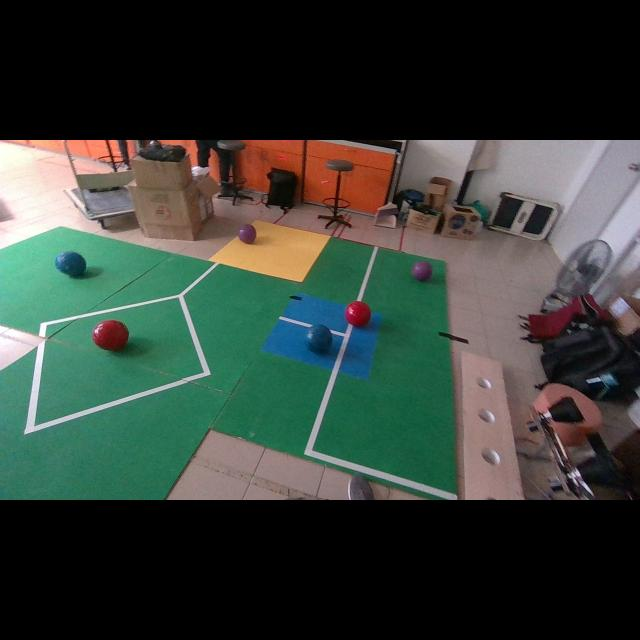B: (305, 325, 332, 354), (55, 251, 86, 276)
P: (411, 261, 432, 281), (238, 224, 256, 243)
R: (92, 320, 128, 350), (345, 301, 371, 326)
